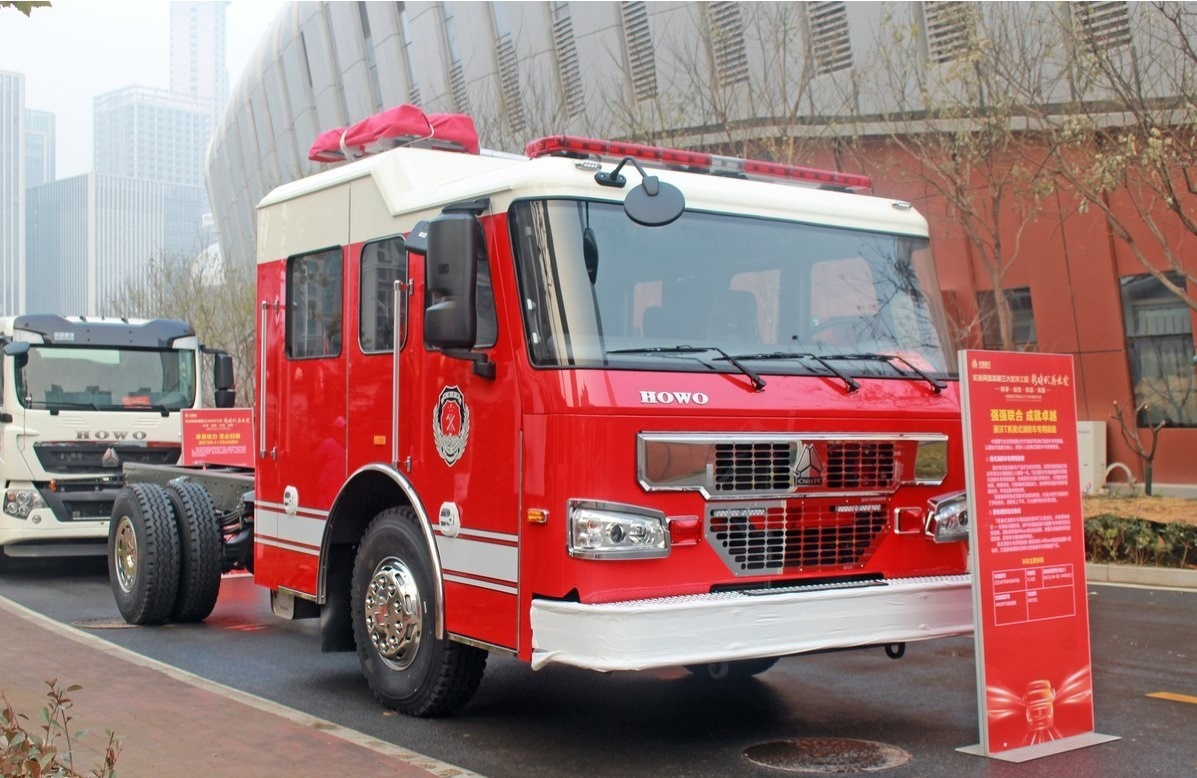fire engine: (109, 136, 972, 709)
